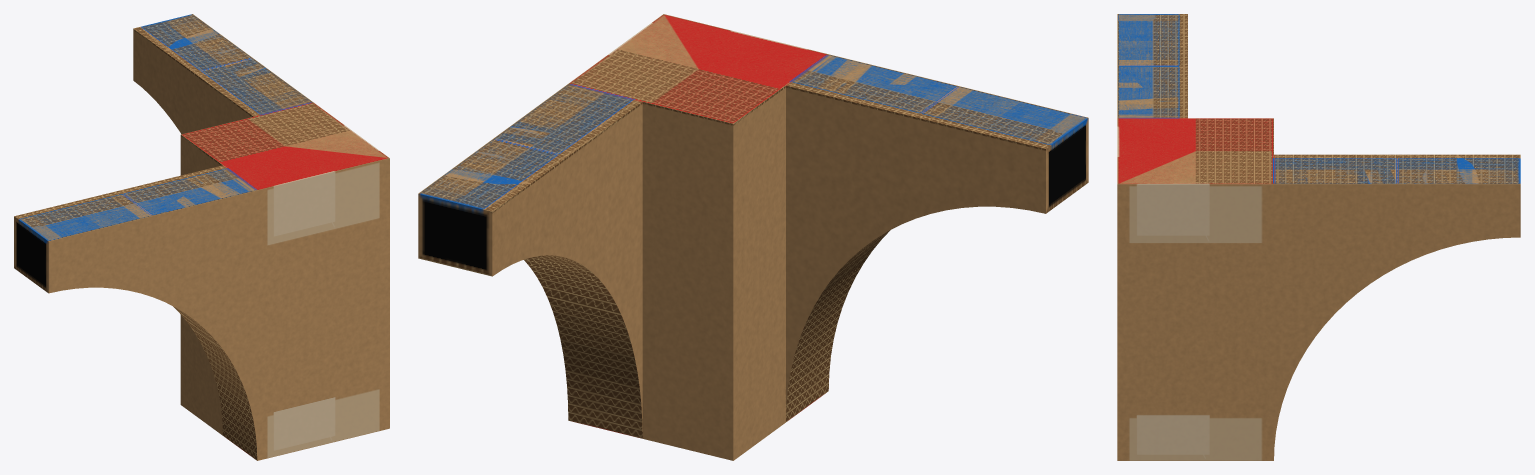
The model's file is 14-arches-front-right.fbx.
The picture shows the model from 3 angles, left to right: view 1: azimuth 30°, elevation 25°; view 2: azimuth 150°, elevation 25°; view 3: azimuth 270°, elevation 25°; orthographic projection. The views are drawn at different scales.
Parts seen in each view (by area): view 1: arches-front-right; view 2: arches-front-right; view 3: arches-front-right.
Boxes of the visible parts, bbox=[...] form: arches-front-right: bbox=[14, 14, 389, 460]; arches-front-right: bbox=[418, 14, 1088, 460]; arches-front-right: bbox=[1117, 14, 1520, 460].
Size of the model in its own units: 10300 by 7800 by 10300.
Materials: 1 (1 with a texture image).
